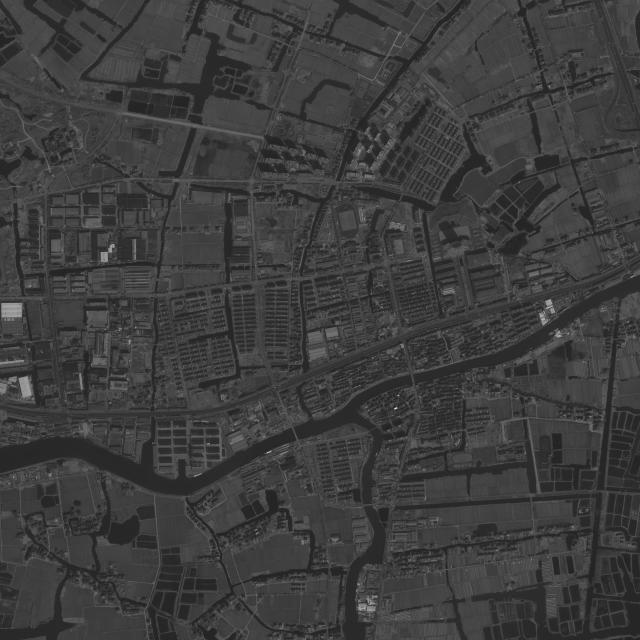ship: (552, 328, 559, 332), (525, 348, 532, 352), (548, 332, 554, 336), (566, 321, 572, 324), (549, 332, 553, 335), (554, 330, 558, 332)
